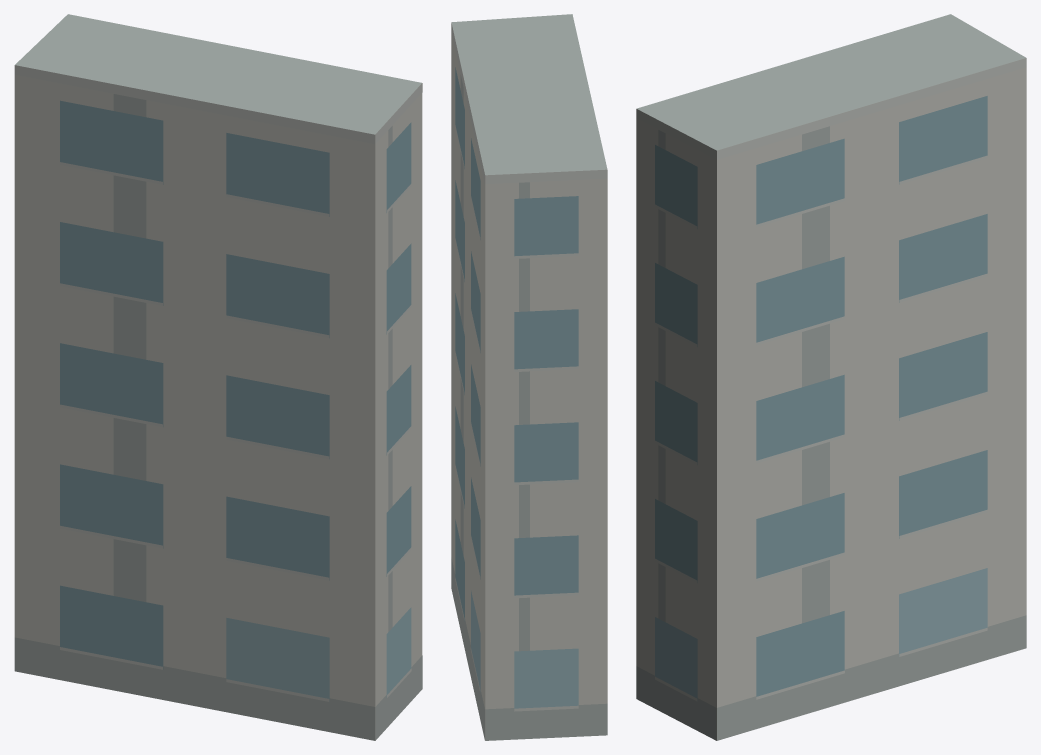
File: survey-upis-32618427.glb
The picture shows the model from 3 angles, left to right: view 1: azimuth 30°, elevation 25°; view 2: azimuth 150°, elevation 25°; view 3: azimuth 270°, elevation 25°; orthographic projection. The views are drawn at different scales.
Parts seen in each view (by area): view 1: survey-upis-32618427.tmp; view 2: survey-upis-32618427.tmp; view 3: survey-upis-32618427.tmp.
Part boxes in pixels (<box>): survey-upis-32618427.tmp: <box>14,14,422,740</box>; survey-upis-32618427.tmp: <box>451,14,607,740</box>; survey-upis-32618427.tmp: <box>636,14,1026,740</box>.
Bounding box in the file's own units: 7.58 × 15.25 × 9.15.
